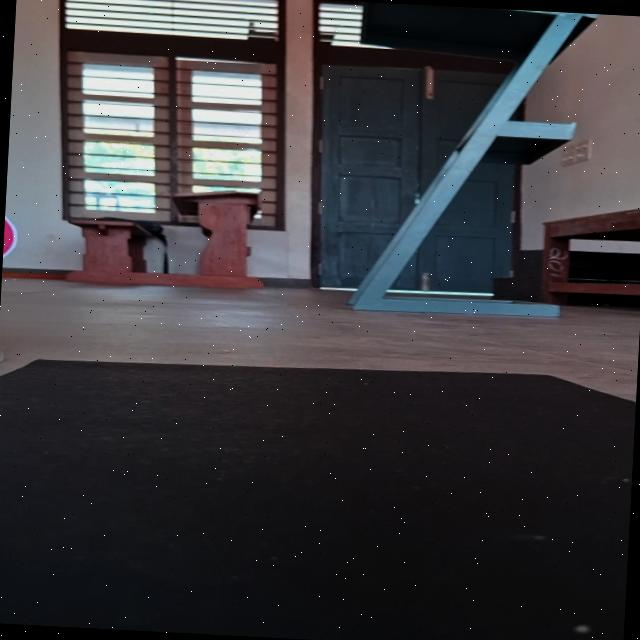Reject: (2, 202, 22, 271)
